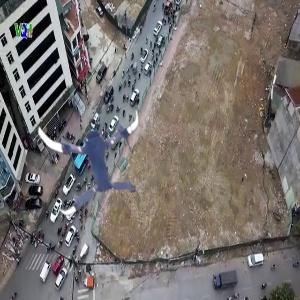drone: (37, 94, 155, 212)
